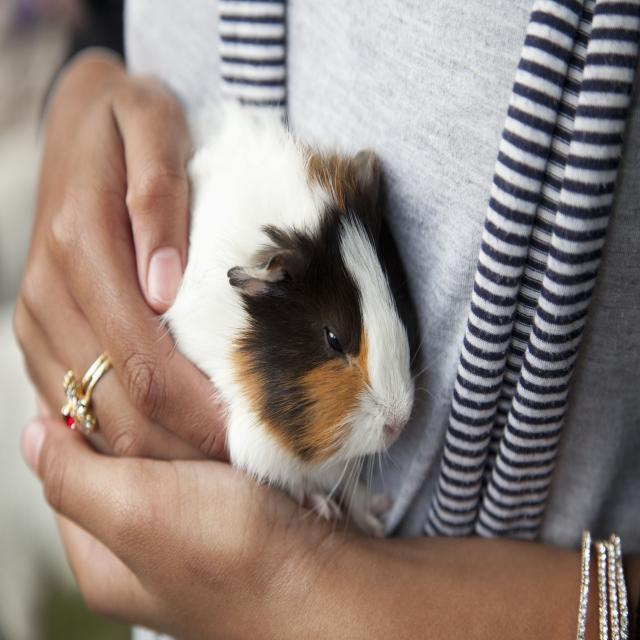guinea pig: (169, 105, 416, 525)
